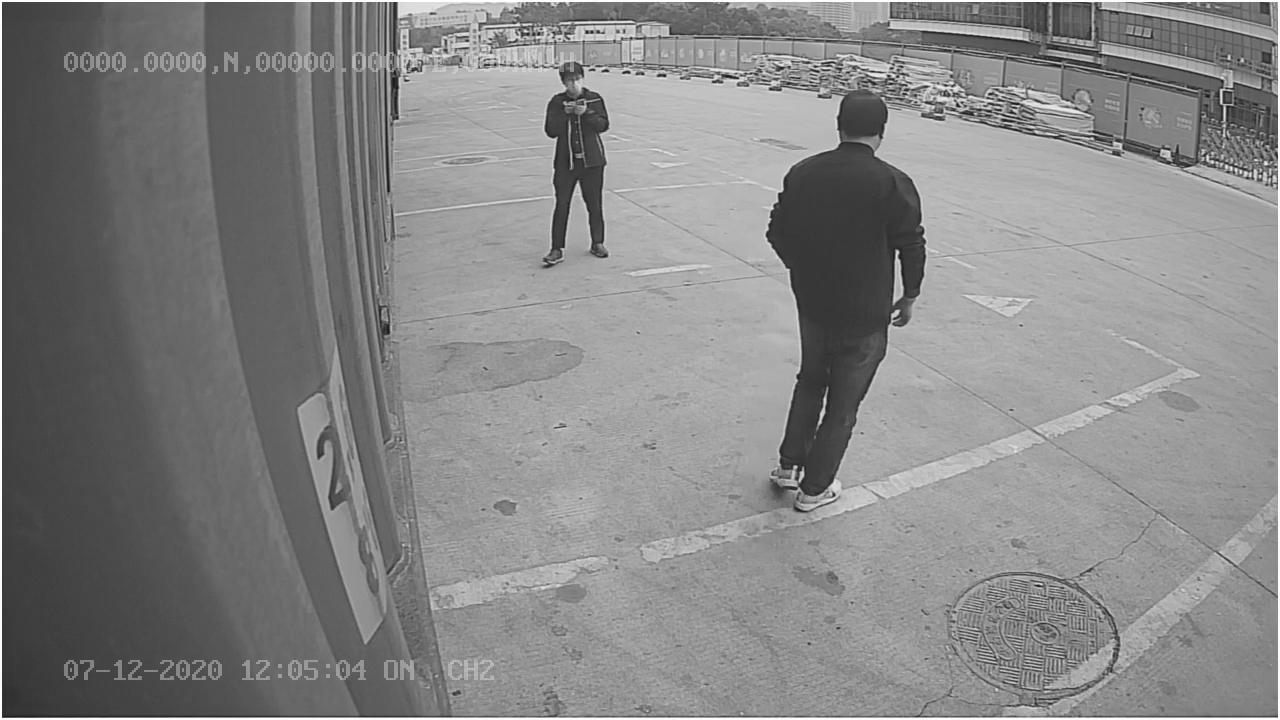person: (762, 81, 929, 511)
